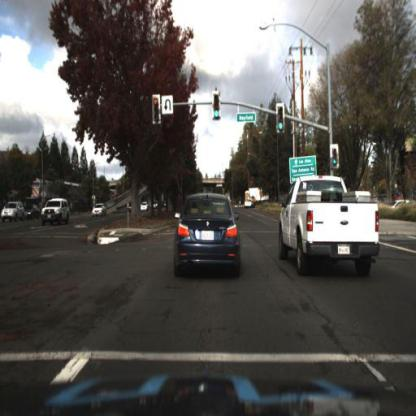car: (266, 175, 401, 293), (173, 191, 243, 279), (38, 193, 74, 228), (388, 190, 416, 216), (2, 199, 26, 228), (25, 199, 43, 222), (23, 200, 40, 222), (92, 201, 109, 221), (92, 201, 109, 217), (139, 201, 153, 219), (245, 191, 257, 208), (244, 190, 254, 210)
trafficLight-Green: (275, 105, 289, 145), (212, 89, 226, 128), (330, 143, 342, 183)
trafficLight-RedLeft: (149, 92, 165, 138)
truck: (250, 187, 275, 205)
